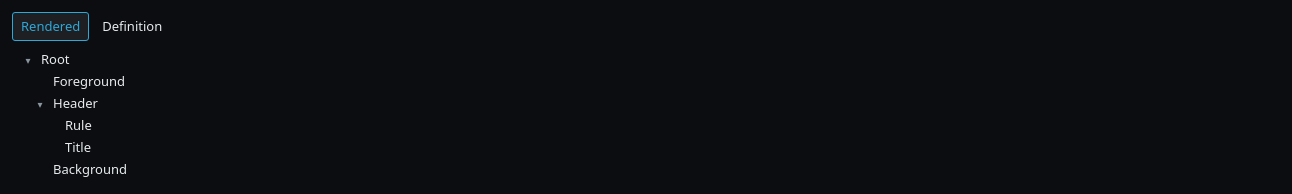
Test: LayersPanel › collapses a row when its twisty is used
The image size is (1292, 194).
Expected: the button "Title" is shown, [64,137,1284,158]
Click the button named "Collapse Header" at (40, 104), box [32,96,48,112]
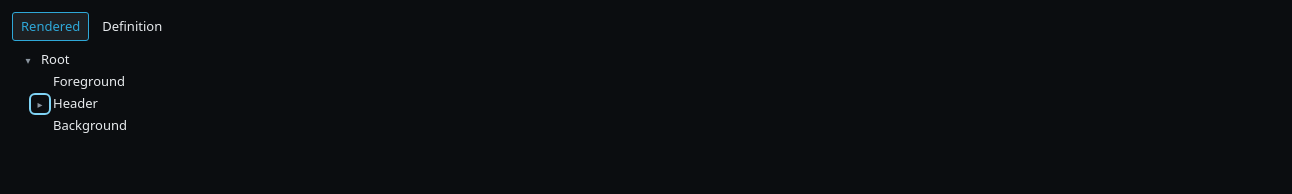
Result: the button "Title" is gone
